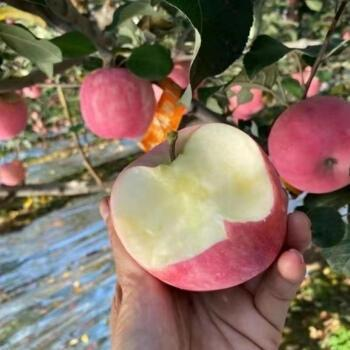apple: (107, 123, 286, 295), (269, 94, 350, 197), (77, 68, 154, 140)
